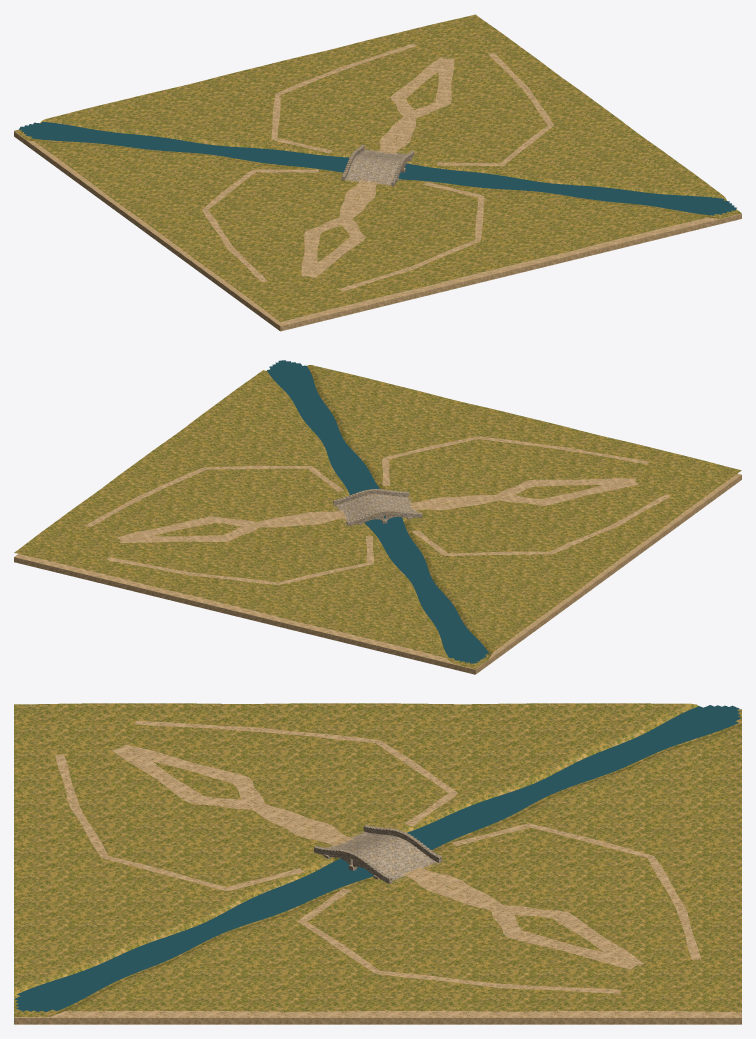
File: alien_battlefield.glb
3 renders of one model, top to bottom at view 1: azimuth 30°, elevation 25°; view 2: azimuth 150°, elevation 25°; view 3: azimuth 270°, elevation 25°, orthographic. The views are drawn at different scales.
Visible parts, largest first — view 1: Meadow grass, Pale compacted trails, River water, Bridge masonry; view 2: Meadow grass, Pale compacted trails, River water, Bridge masonry; view 3: Meadow grass, Pale compacted trails, River water, Bridge masonry.
Boxes of the visible parts, x1,y1,x2,y2 form: Meadow grass: (14, 14, 741, 321); Pale compacted trails: (14, 43, 741, 331); River water: (19, 121, 736, 215); Bridge masonry: (341, 144, 414, 186); Meadow grass: (14, 365, 741, 668); Pale compacted trails: (14, 436, 741, 674); River water: (267, 360, 488, 663); Bridge masonry: (333, 489, 422, 525); Meadow grass: (14, 703, 741, 1016); Pale compacted trails: (14, 720, 741, 1024); River water: (14, 705, 741, 1012); Bridge masonry: (314, 824, 441, 883).
Bounding box in the file's own units: 48 × 2.05 × 48.
4 materials, 3 textured.
